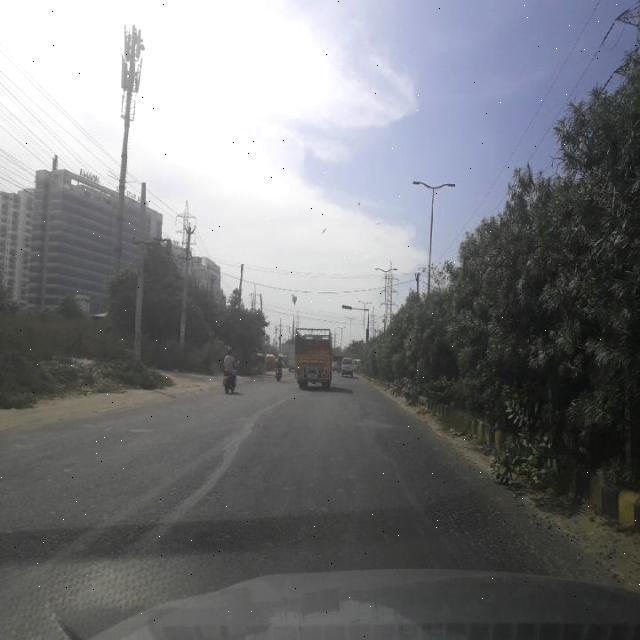D20: (132, 417, 574, 575)
